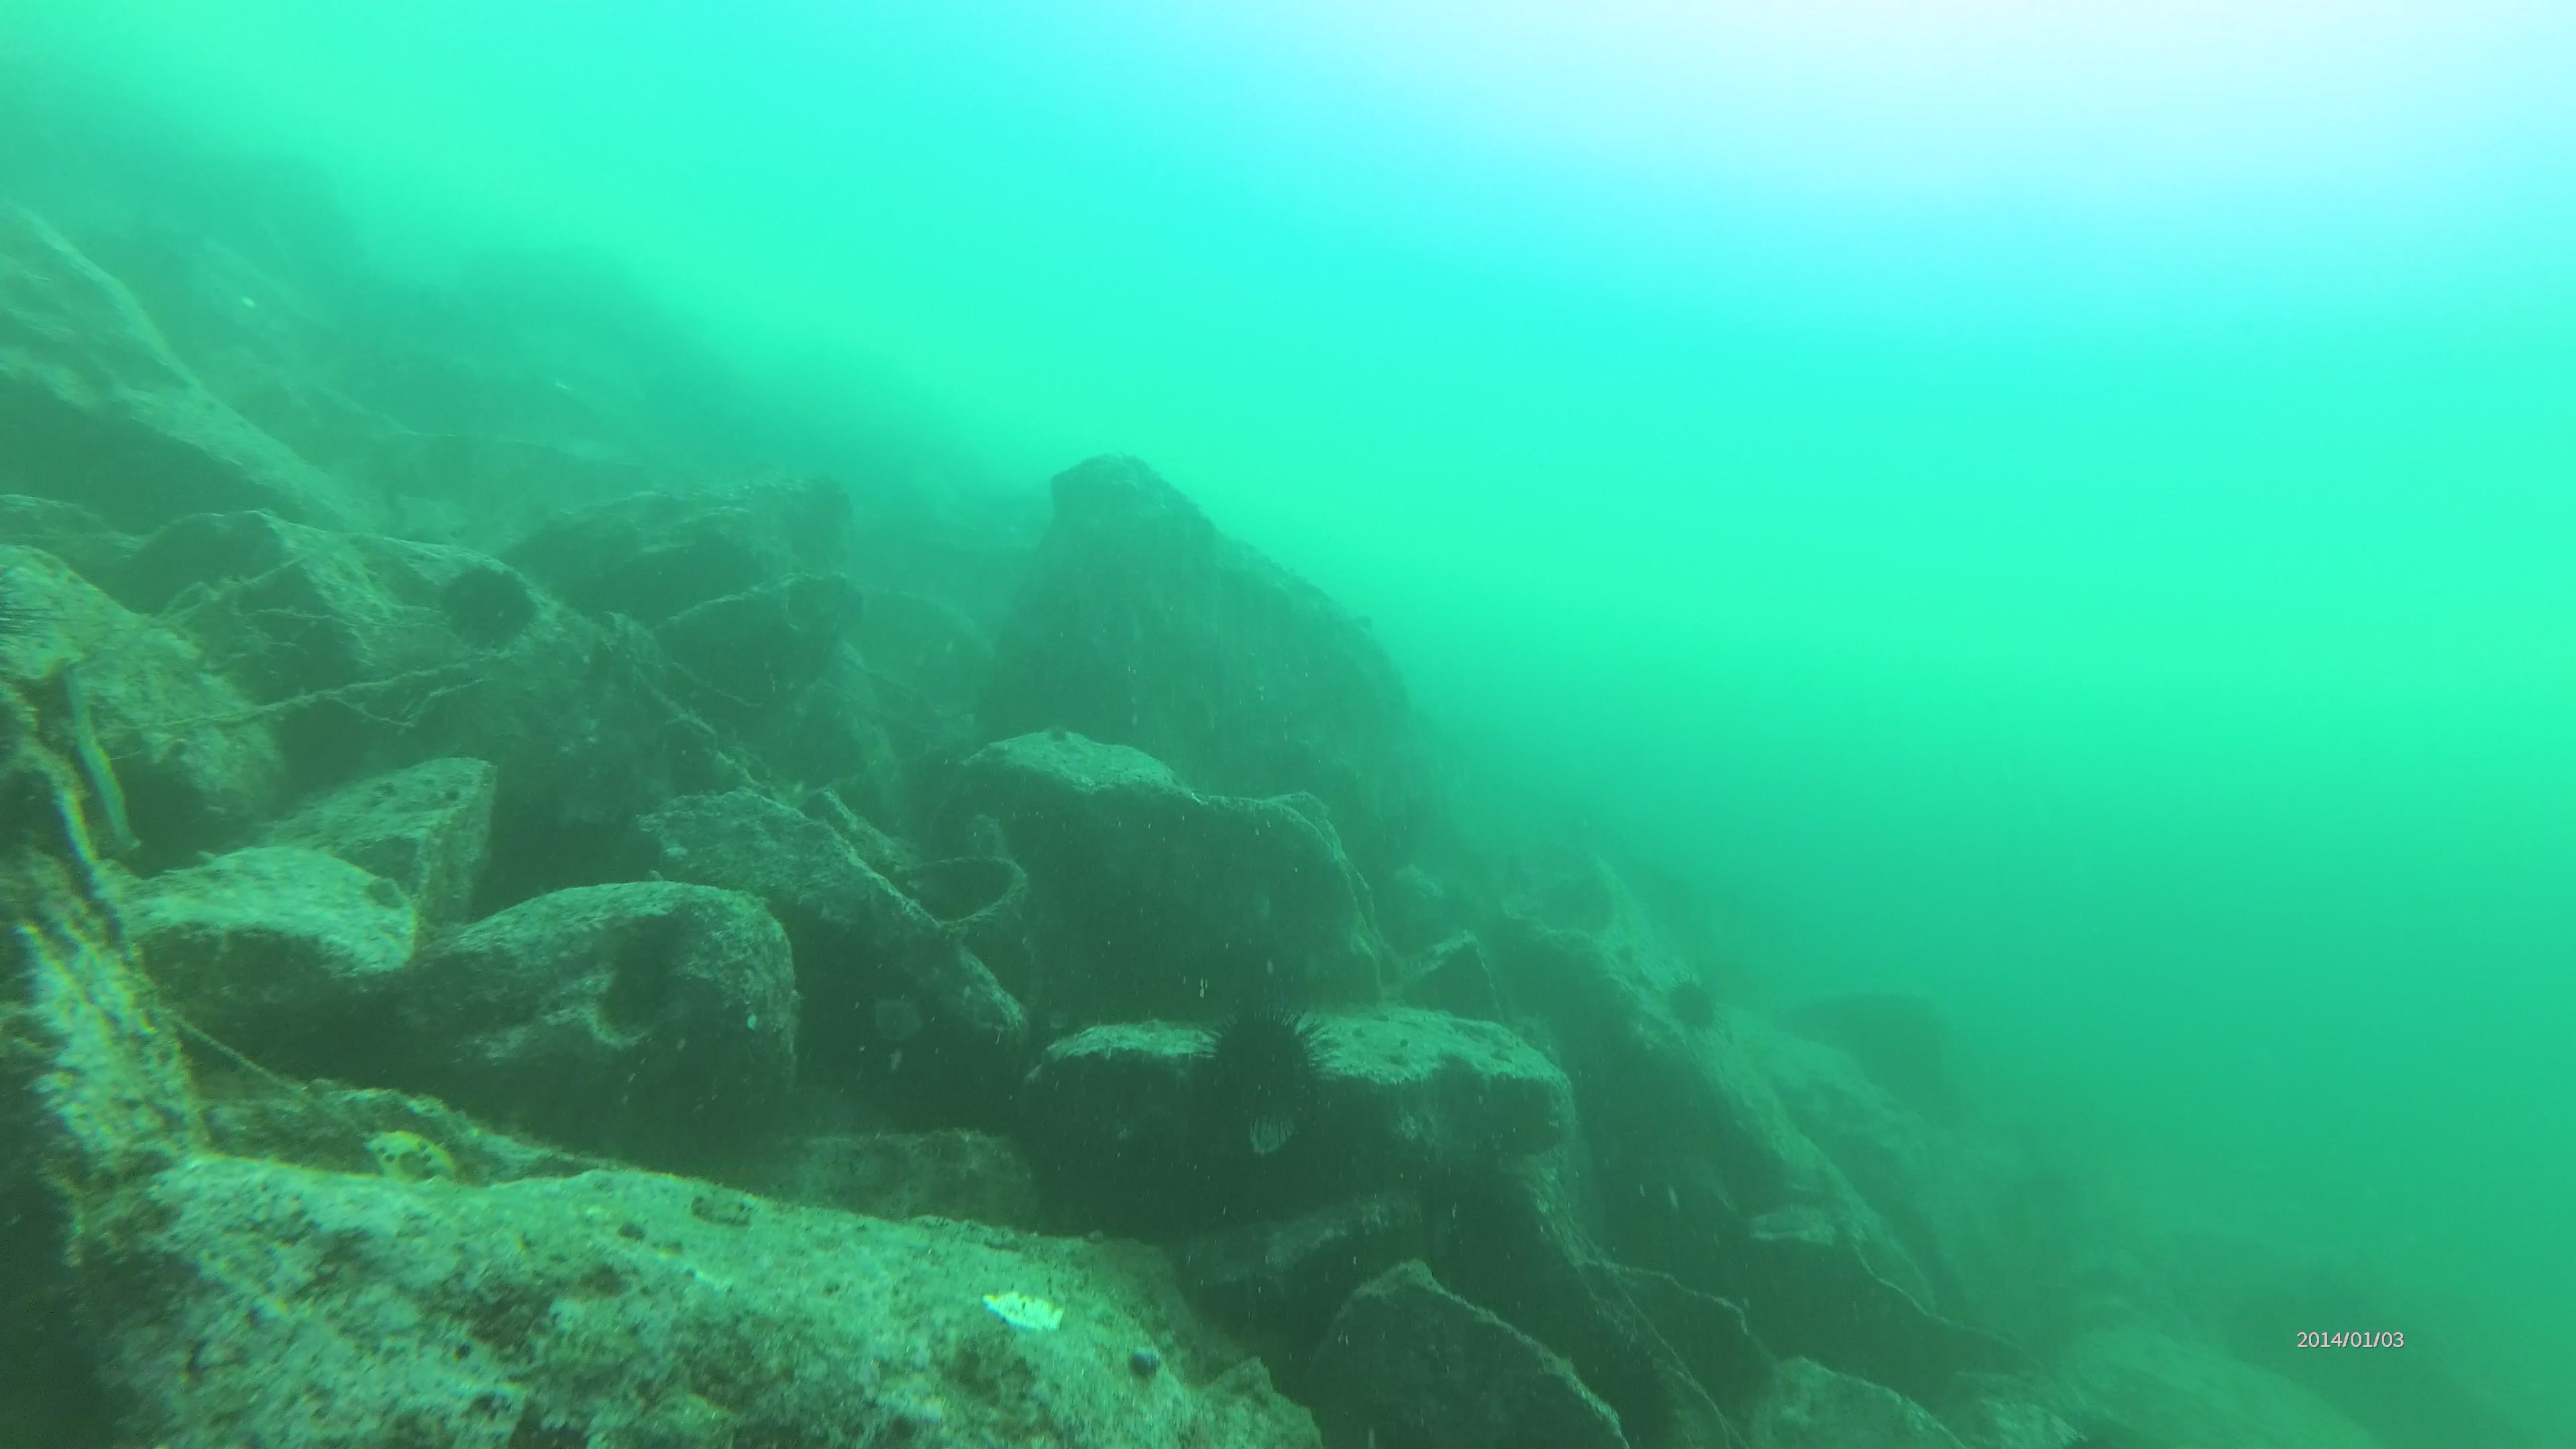echinus: (1185, 993, 1341, 1131), (439, 550, 548, 656), (1660, 964, 1725, 1035)
